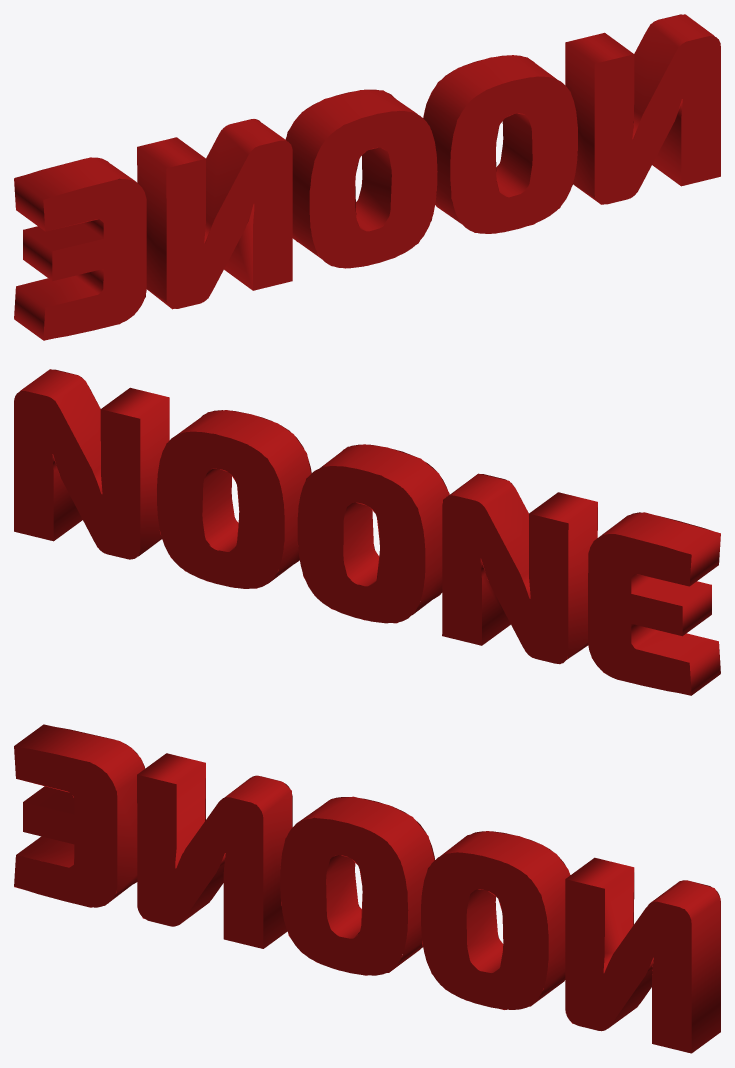
Rendered from noone.fbx.
The picture shows the model from 3 angles, top to bottom: view 1: azimuth 30°, elevation 25°; view 2: azimuth 150°, elevation 25°; view 3: azimuth 330°, elevation 25°; orthographic projection.
Parts seen in each view (by area): view 1: Text; view 2: Text; view 3: Text.
Boxes of the visible parts, x1,y1,x2,y2 form: Text: [14, 14, 720, 340]; Text: [14, 369, 720, 695]; Text: [14, 724, 720, 1053].
Size of the model in its own units: 10.67 by 2.26 by 0.8.
